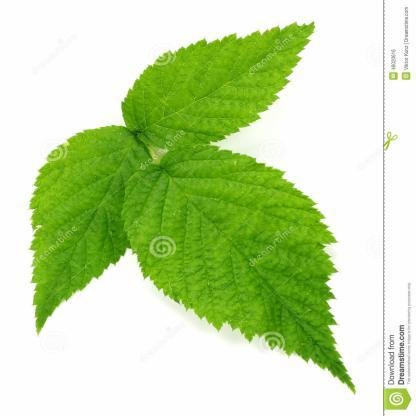Raspberry leaf: (122, 144, 362, 392), (19, 125, 156, 336), (121, 19, 320, 148)
